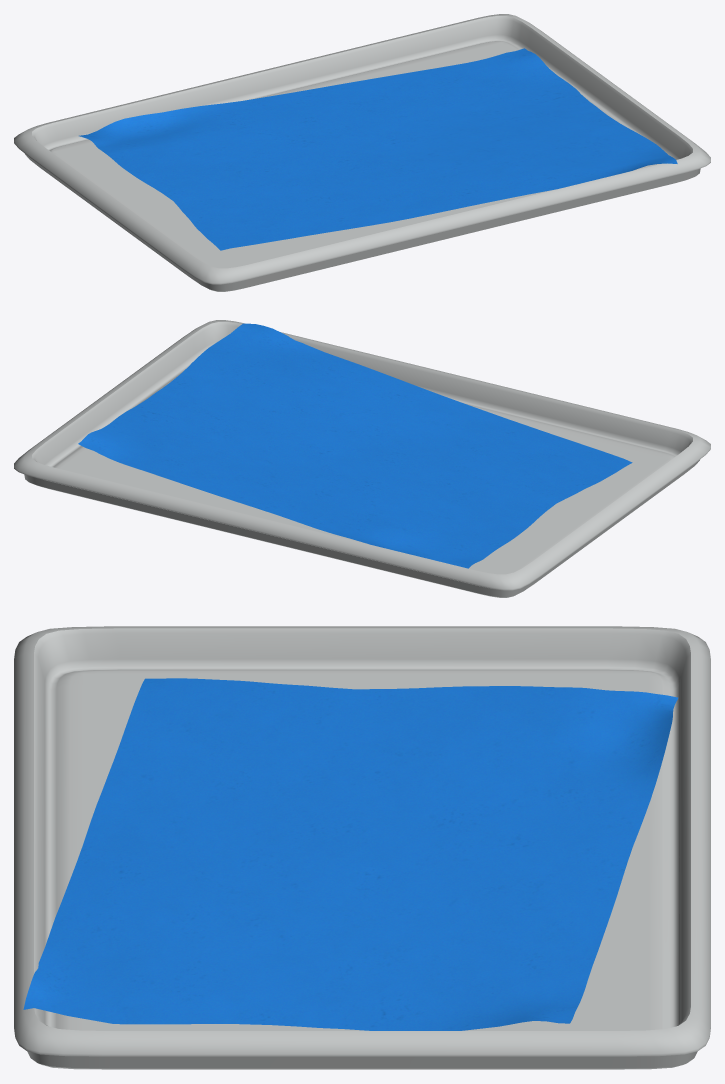
File: tray.glb
3 renders of one model, top to bottom at view 1: azimuth 30°, elevation 25°; view 2: azimuth 150°, elevation 25°; view 3: azimuth 270°, elevation 25°, orthographic. The views are drawn at different scales.
Visible parts, largest first — view 1: Towel, Tray; view 2: Towel, Tray; view 3: Towel, Tray.
Part boxes in pixels (box(x1,y1,x2,y2)): Towel: box(79, 48, 677, 250); Tray: box(14, 14, 710, 291); Towel: box(78, 323, 632, 568); Tray: box(14, 320, 710, 597); Towel: box(23, 678, 678, 1030); Tray: box(14, 626, 710, 1069).
Size of the model in its own units: 0.5506 by 0.0251 by 0.3834.
Materials: 2 (2 with a texture image).
